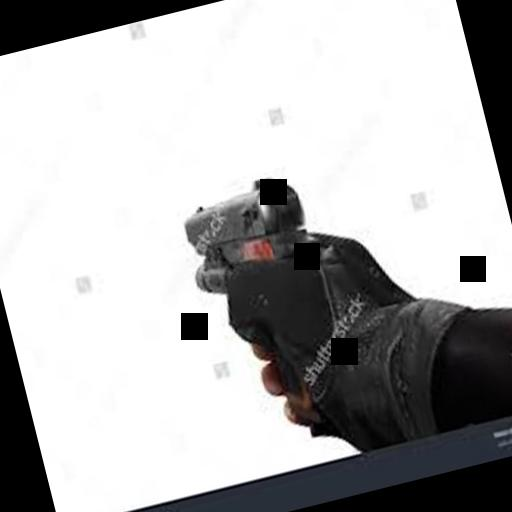Handgun: (158, 160, 359, 456)
